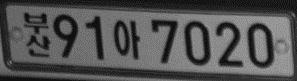0: (183, 19, 211, 65), (246, 22, 274, 68)
1: (83, 16, 109, 59)
2: (215, 21, 242, 67)
7: (150, 18, 178, 63)
9: (53, 13, 78, 59)
부산_V: (23, 11, 51, 57)
아: (113, 19, 141, 59)
